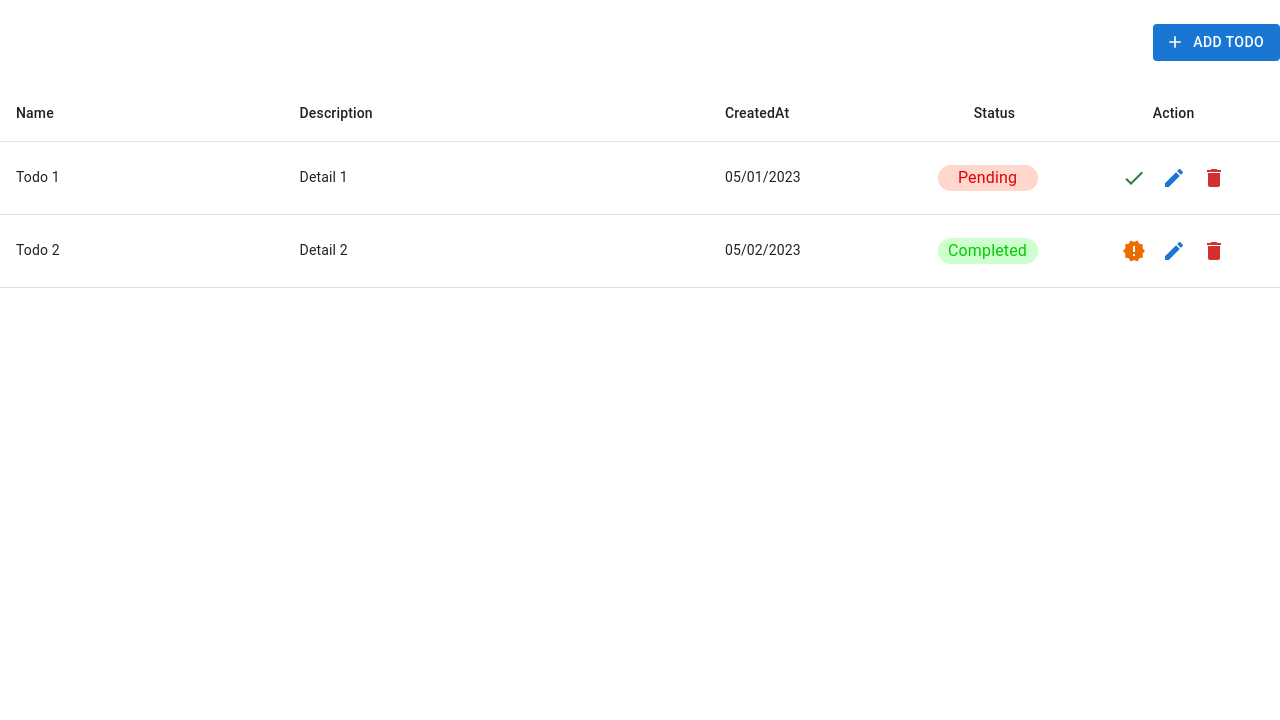
Test: TodoItemTable Component › opens TodoItemForm when edit btn is clicked
Click the button named "edit-item" in the row of "Todo 1": (1174, 178) x1=1154 y1=158 x2=1194 y2=198
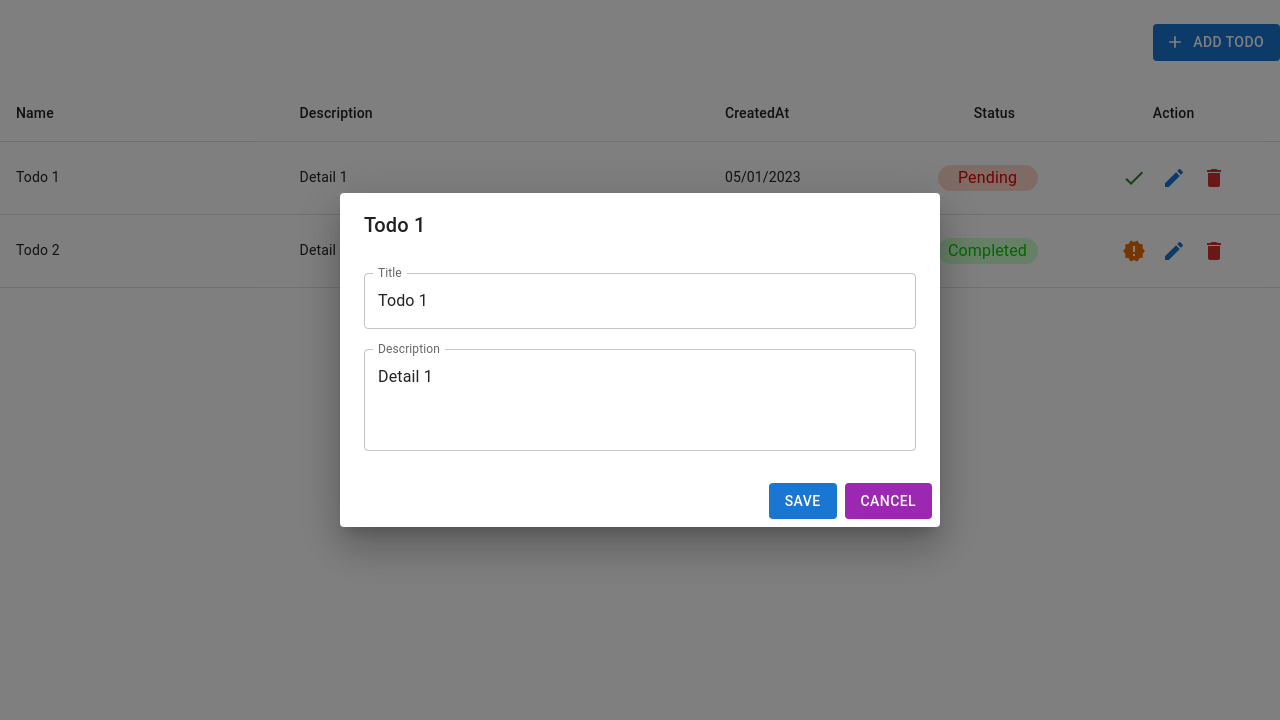
Expected: the element with test id "todo-item-form" is shown
